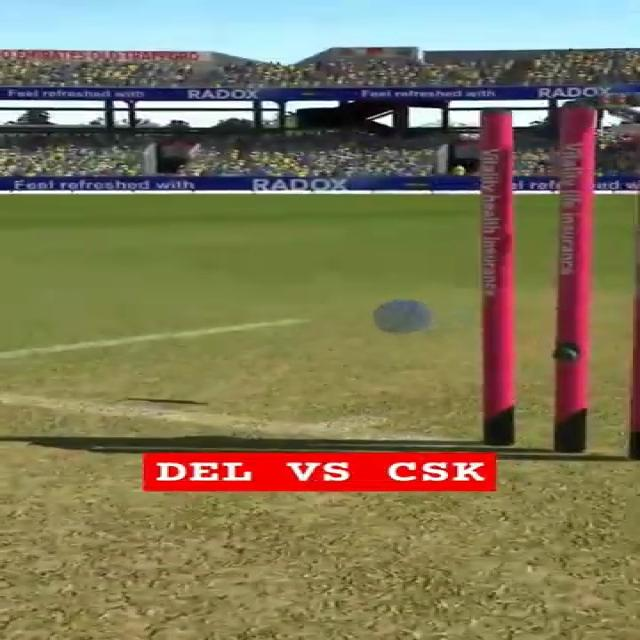ball: (370, 297, 432, 334)
